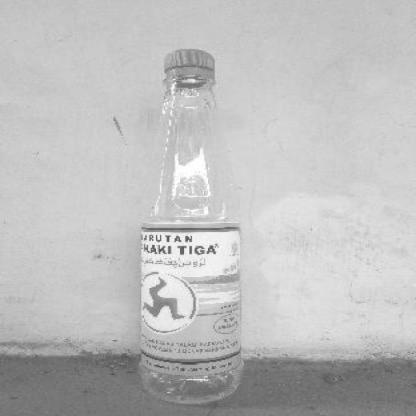plastic_bottles: (137, 46, 249, 411)
